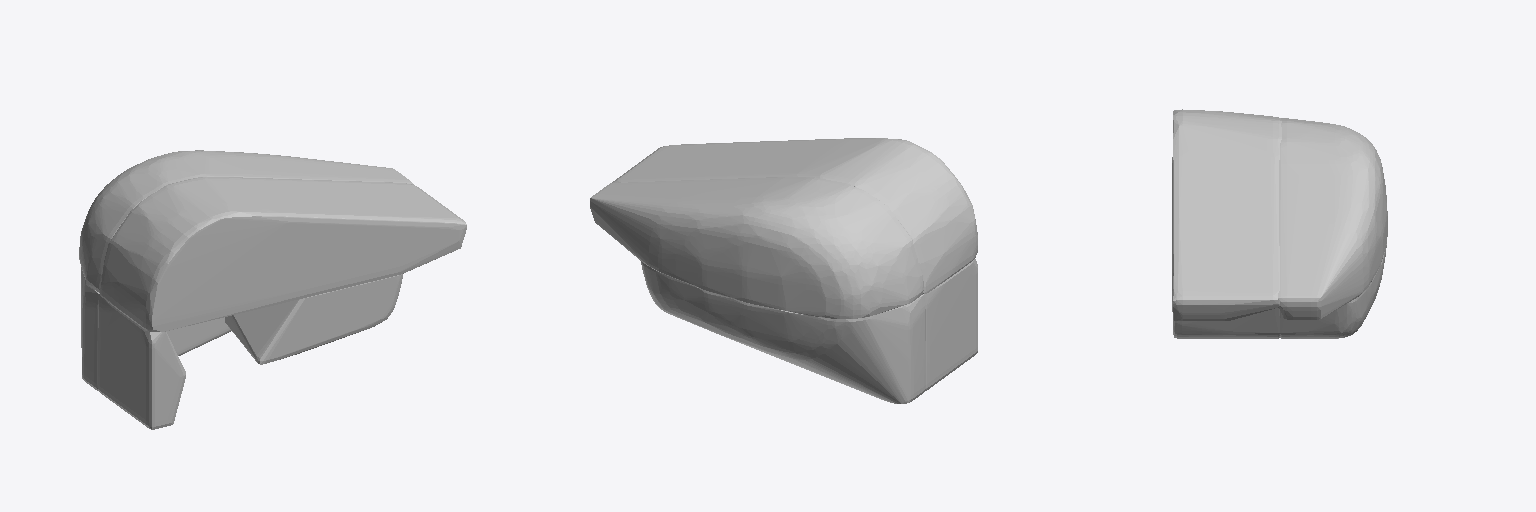
The model's file is hip-roll-housing_split.obj.
3 views of the same model, side by side, from view 1: azimuth 30°, elevation 25°; view 2: azimuth 150°, elevation 25°; view 3: azimuth 270°, elevation 25° (orthographic).
Parts seen in each view (by area): view 1: geometry_4, geometry_3, geometry_2, geometry_1, geometry_0; view 2: geometry_3, geometry_4, geometry_0, geometry_1; view 3: geometry_4, geometry_3, geometry_0, geometry_2.
Boxes of the visible parts, x1,y1,x2,y2 form: geometry_4: [99, 177, 466, 331]; geometry_3: [79, 150, 413, 291]; geometry_2: [225, 274, 402, 364]; geometry_1: [98, 294, 185, 429]; geometry_0: [81, 267, 231, 390]; geometry_3: [590, 177, 923, 318]; geometry_4: [612, 138, 977, 293]; geometry_0: [641, 261, 925, 403]; geometry_1: [924, 259, 977, 390]; geometry_4: [1172, 109, 1281, 320]; geometry_3: [1278, 118, 1387, 319]; geometry_0: [1280, 244, 1386, 338]; geometry_2: [1173, 308, 1279, 338].
Size of the model in its own units: 0.1561 by 0.0924 by 0.0914.